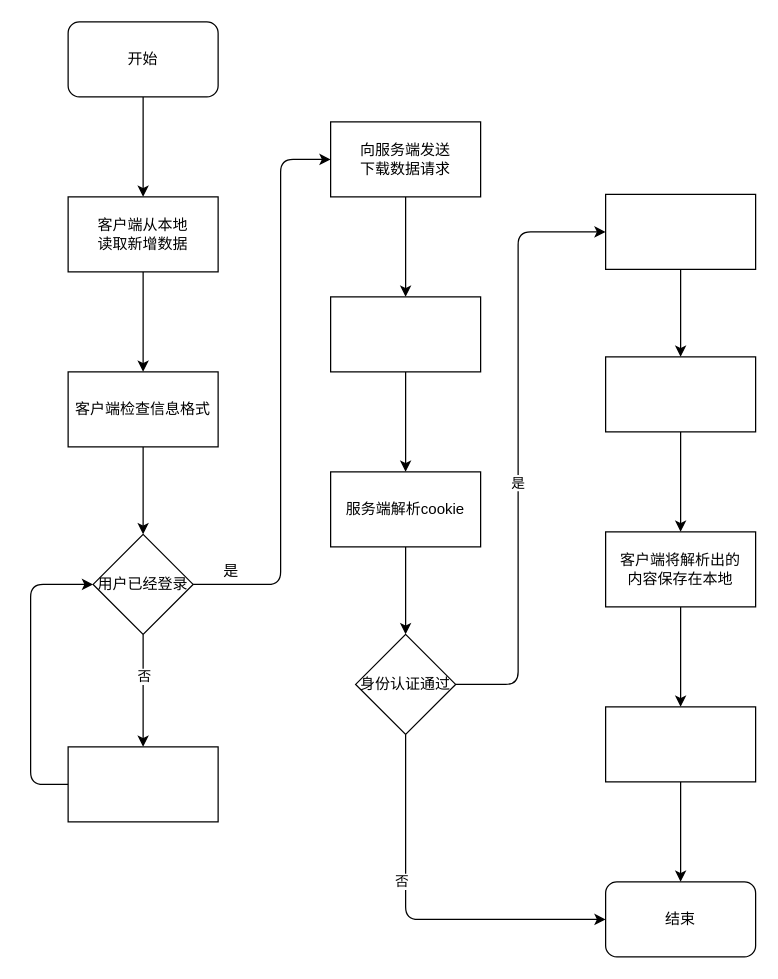
This 778x979 diagram has some shape labels left out. Each missing label, with the centre of its shape:
"客户端展示结果" belongs at [680,744].
"客户端解析响应" belongs at [680,394].
"客户端调用登录接口" belongs at [142,784].
"服务端处理 并返回响应" belongs at [680,231].
"服务端解析数据" belongs at [405,334].
